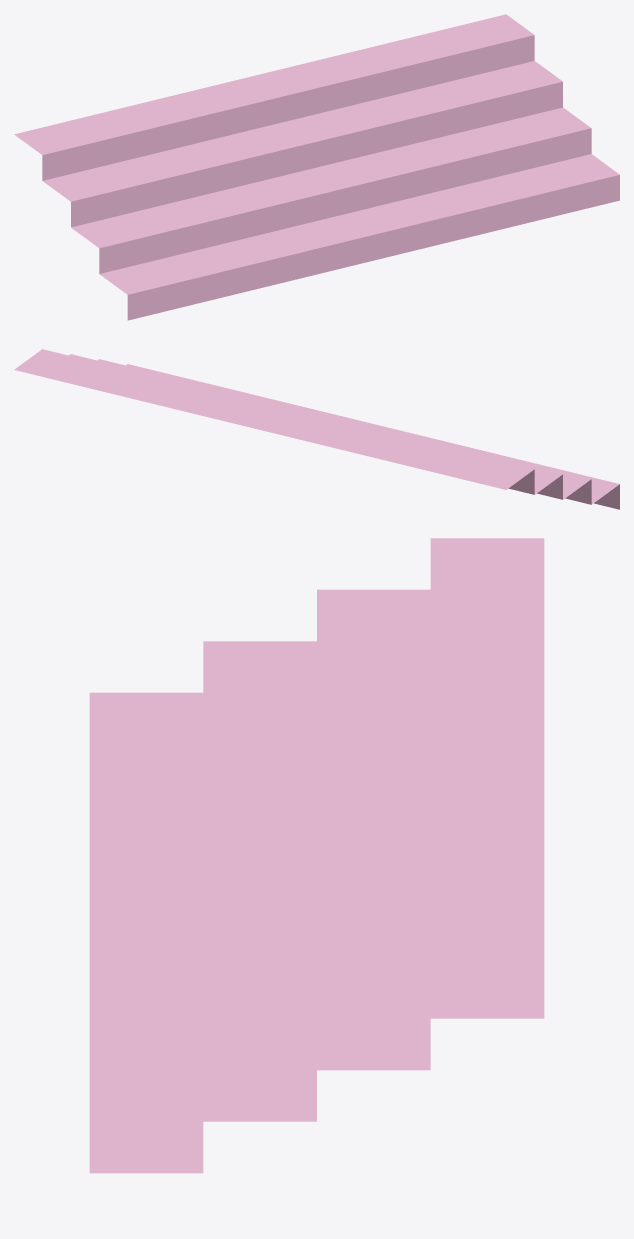
3 renders of one model, top to bottom at view 1: azimuth 30°, elevation 25°; view 2: azimuth 150°, elevation 25°; view 3: azimuth 270°, elevation 25°, orthographic. The views are drawn at different scales.
Visible parts, largest first — view 1: Object19; view 2: Object19; view 3: Object19.
Part boxes in pixels (x1,y1,x2,y2): Object19: [14, 14, 619, 320]; Object19: [14, 349, 619, 509]; Object19: [89, 538, 544, 1173].
Size of the model in its own units: 500 by 100 by 200.
